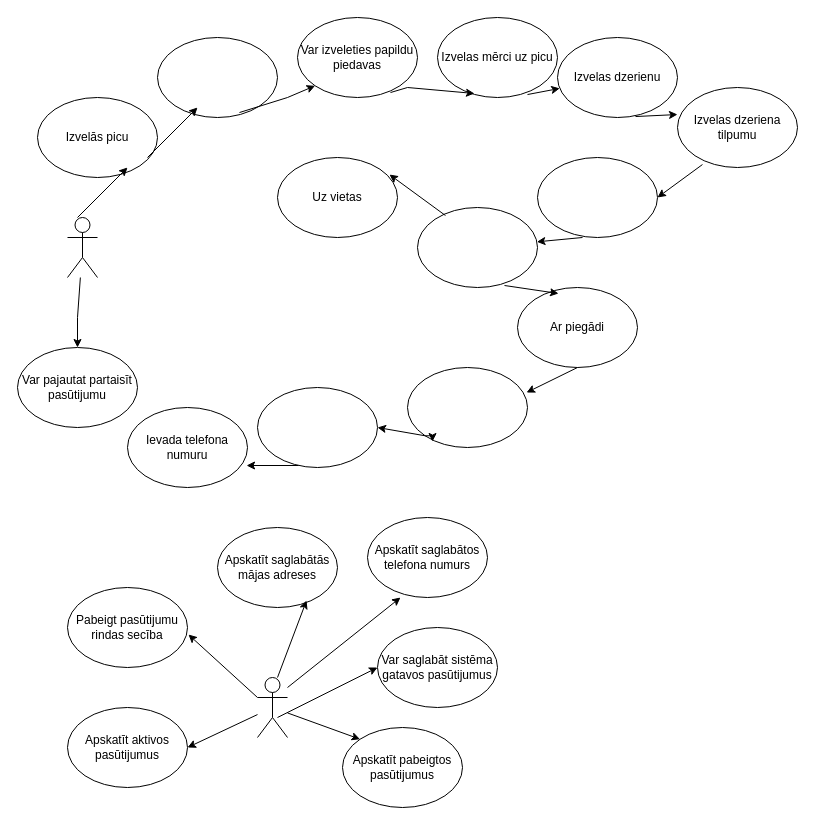
Image size: 815x825. Some labels were removed from this diagram. Each missing label, with the centre of its shape:
Darbinieks: (x=272, y=707)
Ievada mājas adresi un pilsētu: (x=317, y=427)
Ievada vārdu uzvārdu: (x=467, y=407)
Izvelas uzkodas: (x=597, y=197)
Izvelās saņemšanas veidu: (x=477, y=247)
Izvēlas picas lielumu: (x=217, y=77)
Pircējs: (x=82, y=247)
